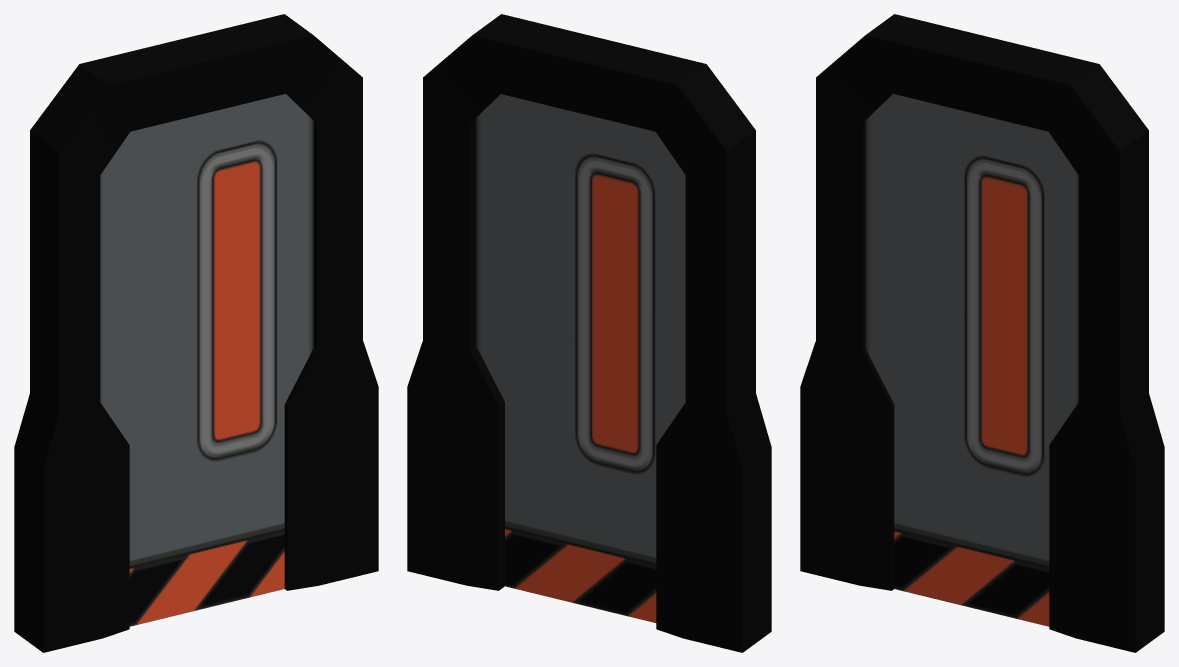
File: Door02.fbx
3 views of the same model, side by side, from view 1: azimuth 30°, elevation 25°; view 2: azimuth 150°, elevation 25°; view 3: azimuth 330°, elevation 25° (orthographic).
Visible parts, largest first — view 1: polySurface431, polySurface430; view 2: polySurface431, polySurface430; view 3: polySurface431, polySurface430.
Part boxes in pixels (bbox=[...]): polySurface431: bbox=[14, 14, 378, 652]; polySurface430: bbox=[100, 94, 313, 626]; polySurface431: bbox=[407, 14, 771, 652]; polySurface430: bbox=[475, 94, 685, 622]; polySurface431: bbox=[800, 14, 1164, 652]; polySurface430: bbox=[865, 94, 1078, 626].
Bounding box in the file's own units: 0.3115 × 0.4899 × 0.0468.
Materials: 1 (1 with a texture image).
